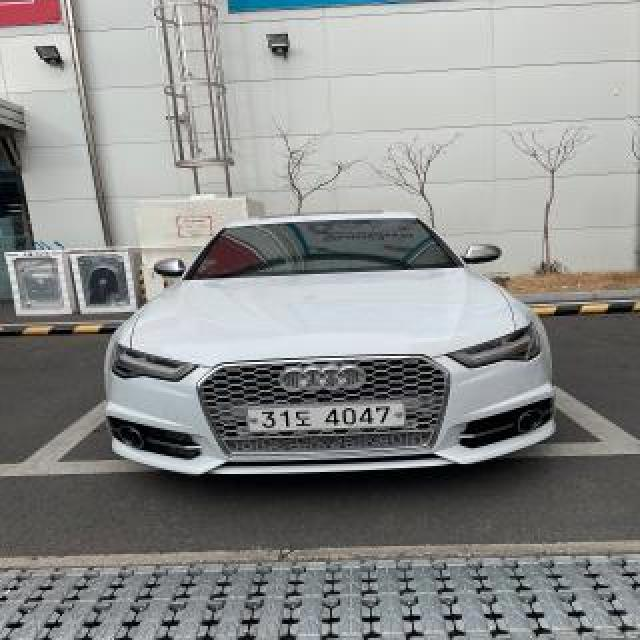car: (99, 206, 567, 480)
illegal_plate: (243, 398, 409, 433)
